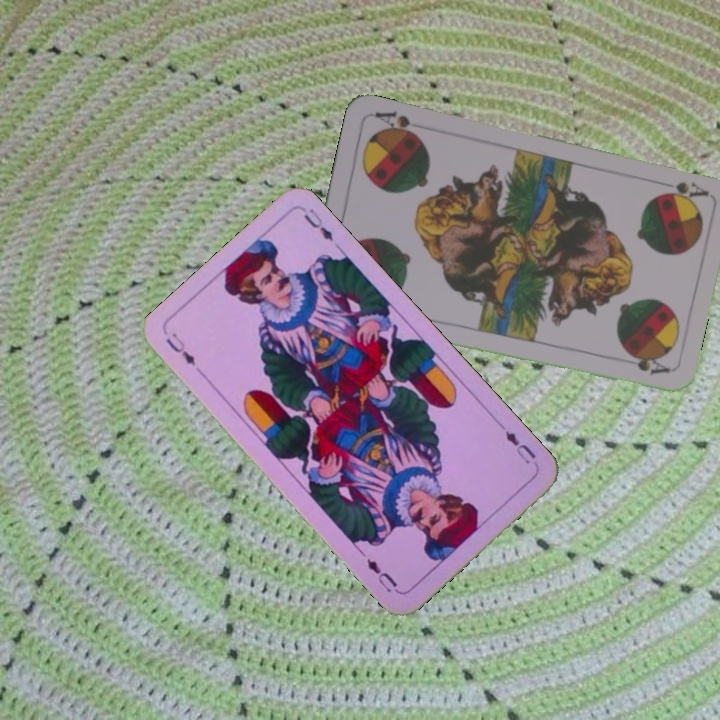EU: (500, 426, 539, 467), (161, 328, 199, 369)
SA: (652, 177, 711, 204)
